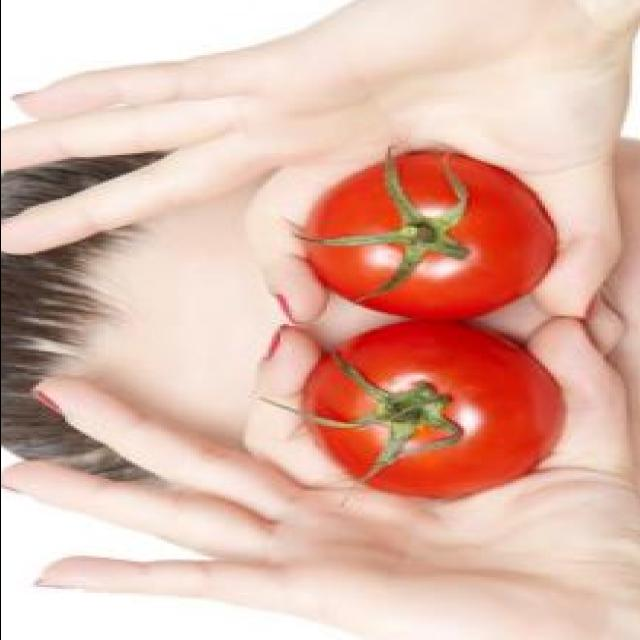Healthy: (276, 324, 556, 514), (288, 152, 568, 332)
